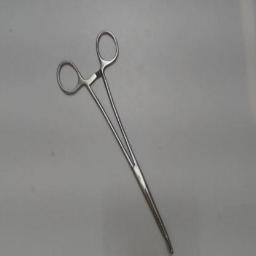Lahey Forceps: (52, 24, 180, 256)
